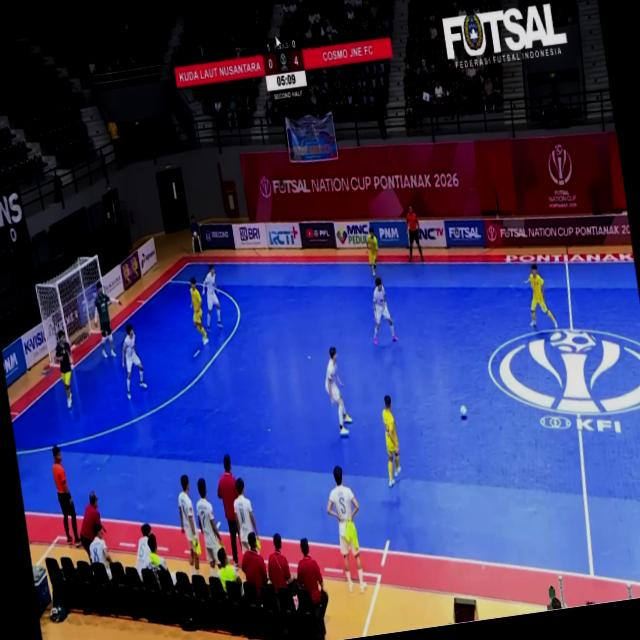official: (218, 454, 239, 563), (407, 206, 424, 261)
players: (327, 466, 366, 592), (325, 347, 352, 437), (196, 478, 222, 571), (179, 475, 201, 575), (95, 282, 121, 358), (234, 478, 260, 552), (526, 265, 557, 327), (122, 324, 147, 399), (383, 396, 401, 487), (373, 276, 397, 344), (190, 277, 209, 345), (203, 264, 222, 330), (56, 331, 72, 409), (407, 206, 424, 261), (367, 227, 378, 276)
referee: (53, 446, 81, 545), (407, 206, 424, 261)
